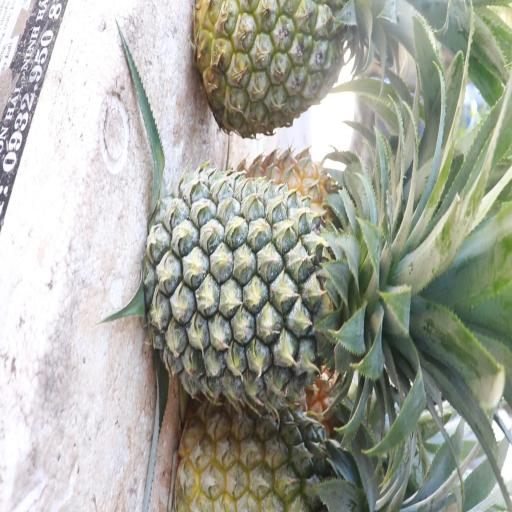------------------------------: (193, 0, 358, 136), (176, 397, 362, 512)
